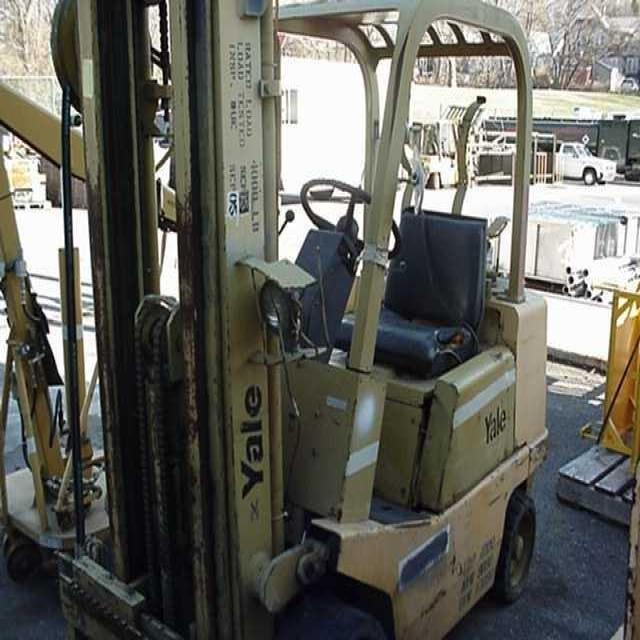forklift: (61, 4, 548, 640)
